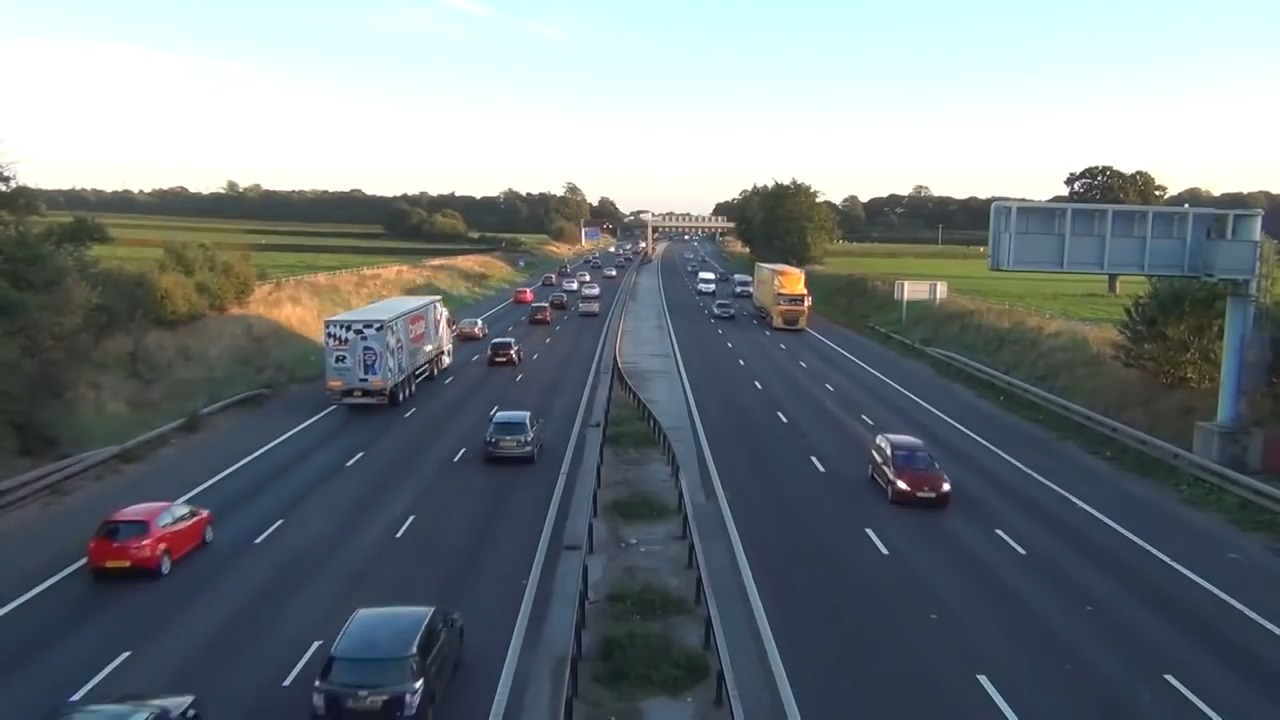truck: (319, 289, 460, 411)
